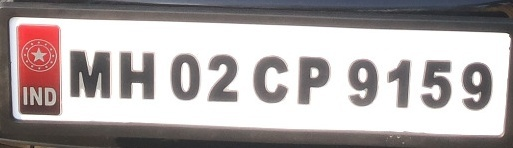character: (67, 46, 111, 100), (117, 47, 156, 101), (206, 52, 241, 104), (296, 53, 330, 105), (252, 55, 288, 104), (460, 61, 493, 111), (346, 58, 379, 107), (420, 59, 451, 109), (169, 52, 200, 100), (384, 57, 411, 109)
